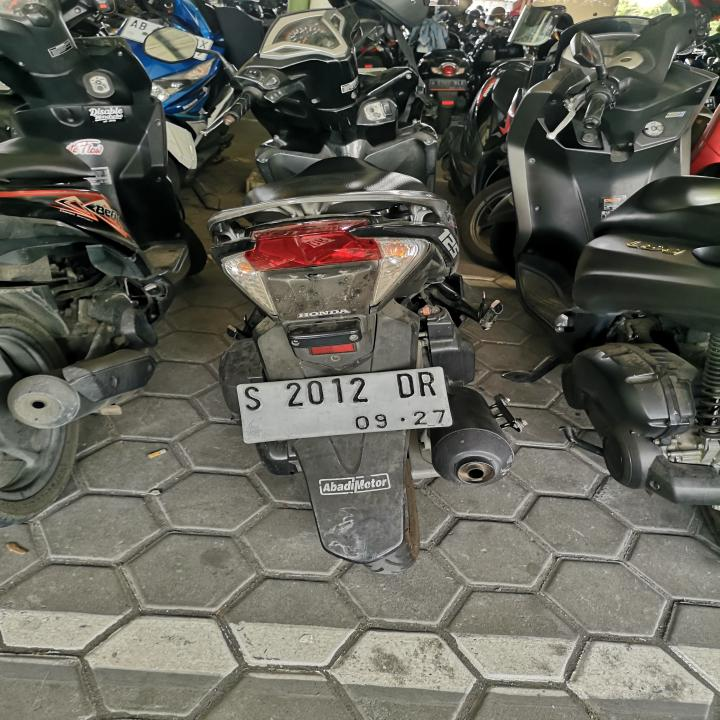plate: (234, 364, 456, 448)
